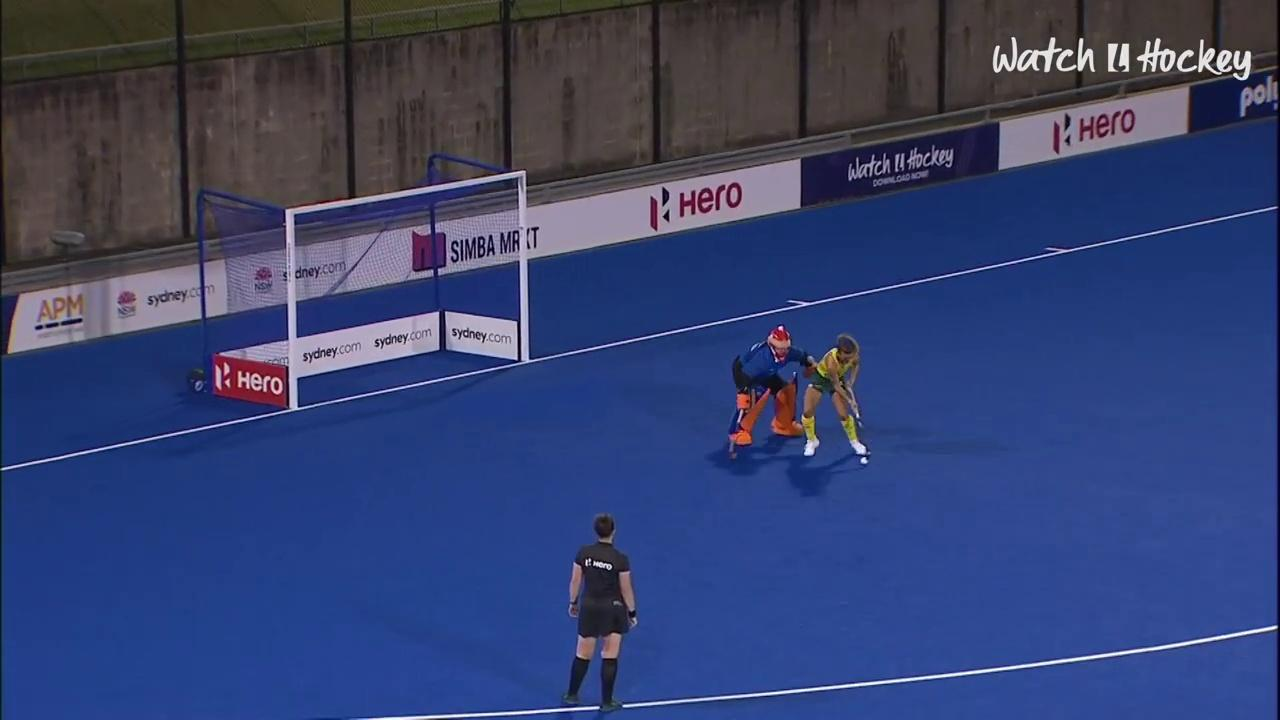ball: (855, 449, 873, 472)
